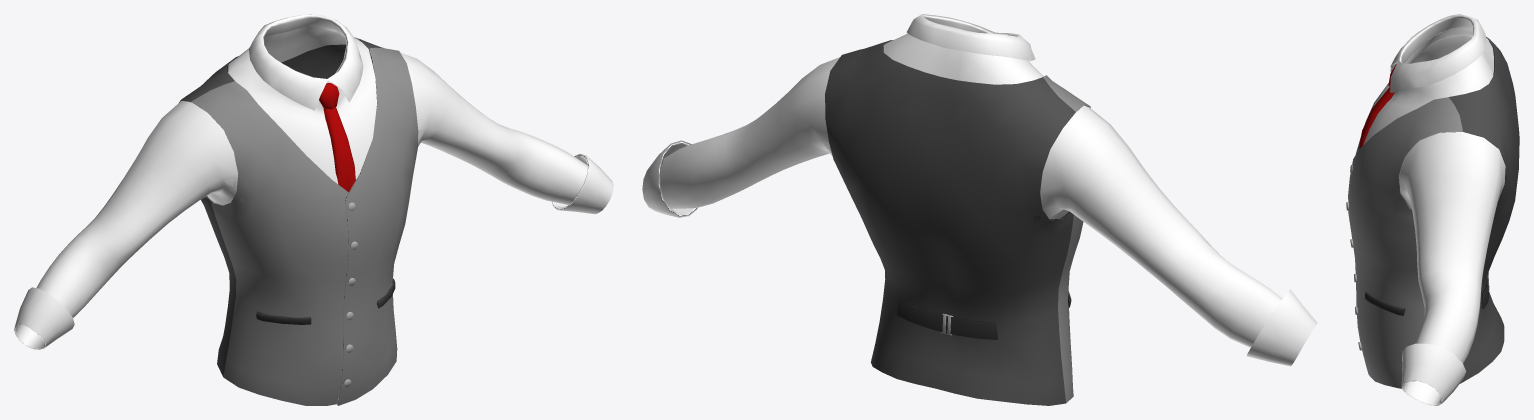
Rendered from shirt.glb.
3 views of the same model, side by side, from view 1: azimuth 30°, elevation 25°; view 2: azimuth 150°, elevation 25°; view 3: azimuth 270°, elevation 25° (orthographic). The views are drawn at different scales.
Visible parts, largest first — view 1: vest, Tshirt1, Tshirt2, Tsgirt4, Tshirt3, CRB; view 2: vest, Tshirt1, Tshirt2, Tsgirt4, back1, Tshirt3; view 3: vest, Tshirt1, Tshirt2, Tshirt3, CRB, Packet1.
Boxes of the visible parts, box(x1,y1,x2,y2) form: vest: box(179, 37, 418, 405); Tshirt1: box(15, 26, 587, 348); Tshirt2: box(248, 14, 363, 110); Tsgirt4: box(14, 287, 74, 349); Tshirt3: box(551, 153, 613, 214); CRB: box(323, 107, 355, 192); vest: box(825, 40, 1090, 405); Tshirt1: box(660, 33, 1282, 347); Tshirt2: box(906, 14, 1035, 60); Tsgirt4: box(1246, 289, 1317, 366); back1: box(896, 299, 997, 339); Tshirt3: box(642, 140, 698, 217); vest: box(1348, 37, 1519, 388); Tshirt1: box(1363, 26, 1505, 405); Tshirt2: box(1390, 14, 1485, 92); Tshirt3: box(1401, 343, 1466, 405); CRB: box(1359, 87, 1394, 148); Packet1: box(1365, 291, 1405, 315).
Size of the model in its own units: 0.4635 by 0.2603 by 0.1196.
